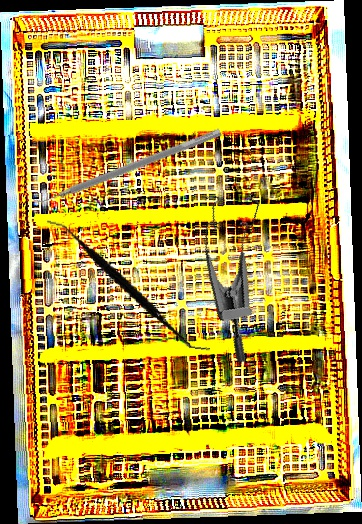Spatula Surgical: (29, 218, 228, 352), (31, 120, 222, 211)
Speculum: (174, 178, 313, 366)
